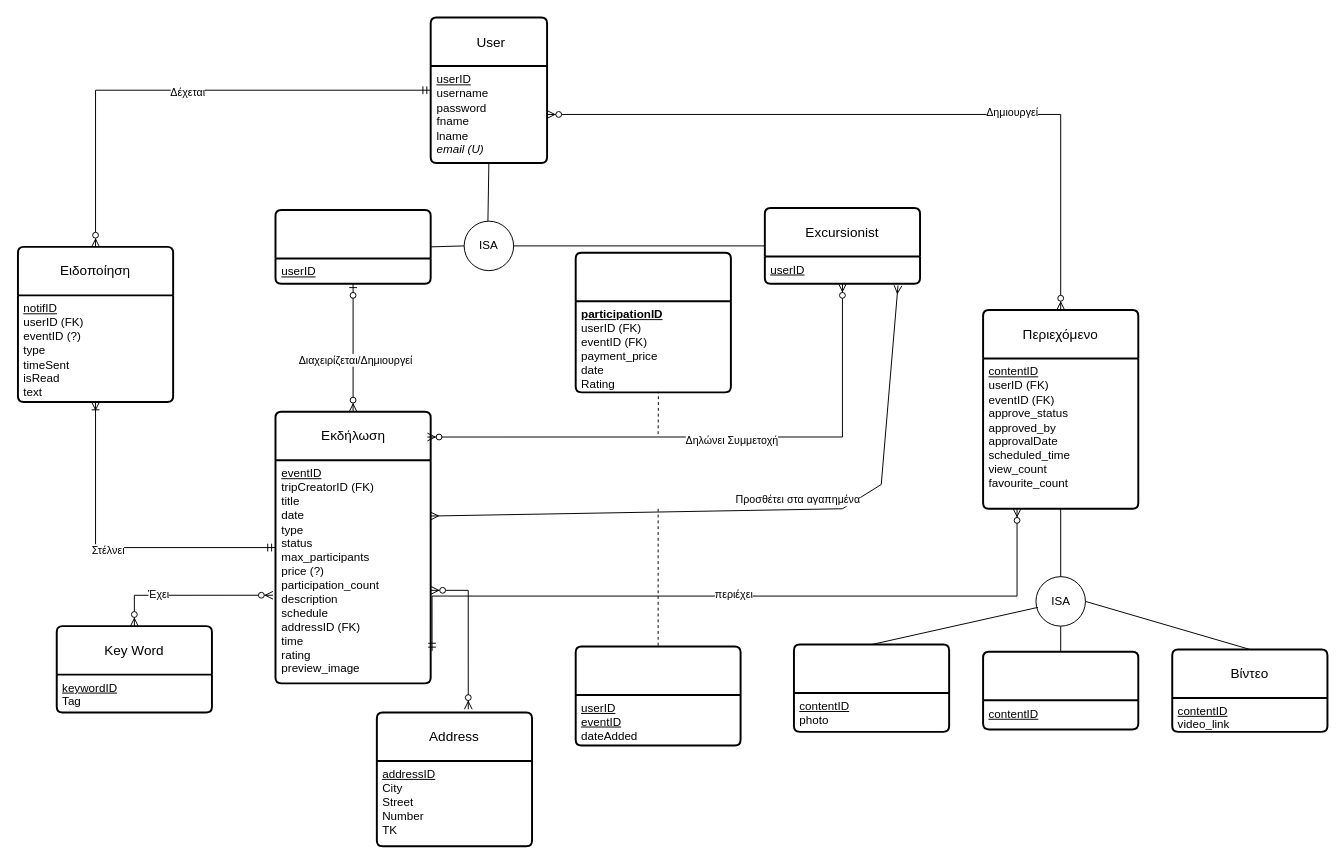
This 1344x864 diagram has some shape labels left out. Each missing label, with the box of its shape:
Favourite: (574, 645, 741, 746)
Highlight: (982, 650, 1139, 730)
Trip Creator: (274, 209, 431, 284)
Συμμετοχή: (574, 251, 731, 393)
Φωτογραφία: (792, 643, 950, 732)
